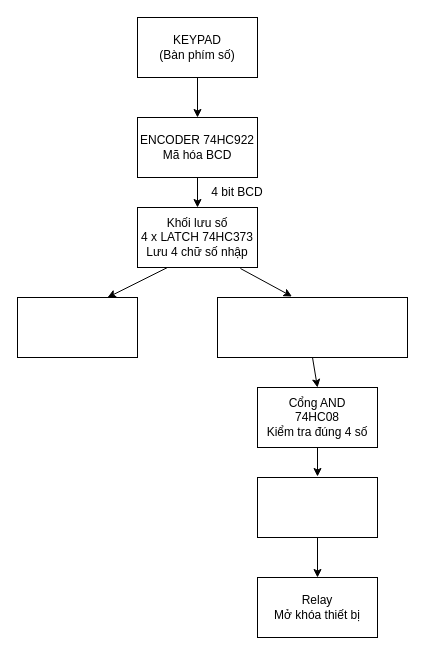
Some shapes in this 425 by 655 pixel diagram are drawn without their labels. Each missing label, with the centre of its shape:
Hiển thị 4 x LED 7 đoạn 74HC4511: [77,327]
Khối so sánh 4 x 74HC85 So sánh giữa mã khóa và mã được nhập: [312,327]
Transistor Khuếch đại tín hiệu: [317,507]
